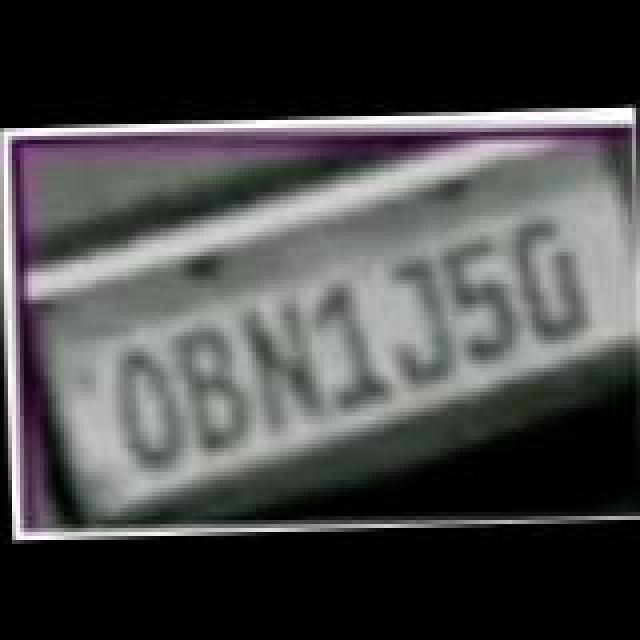1: (310, 278, 390, 410)
5: (442, 232, 522, 364)
B: (170, 322, 254, 454)
D: (510, 212, 594, 340)
J: (380, 254, 456, 386)
N: (240, 290, 328, 426)
O: (108, 340, 188, 472)
